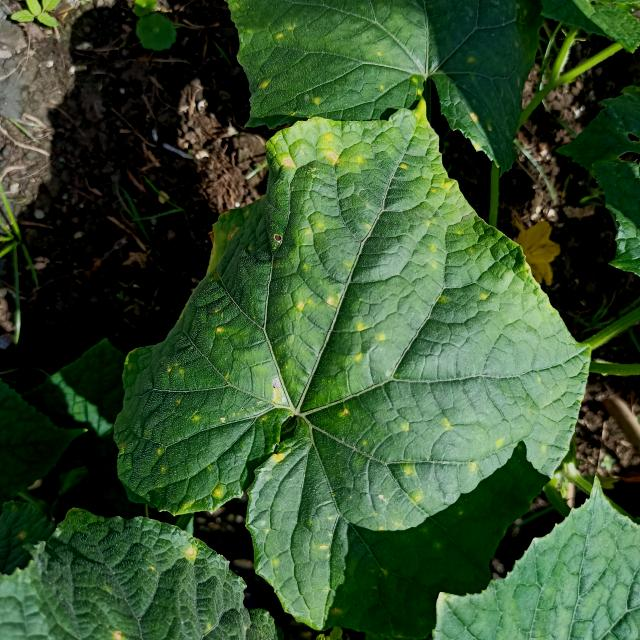disease_cucumber: (322, 405, 514, 564), (258, 120, 384, 316), (345, 316, 386, 368)
